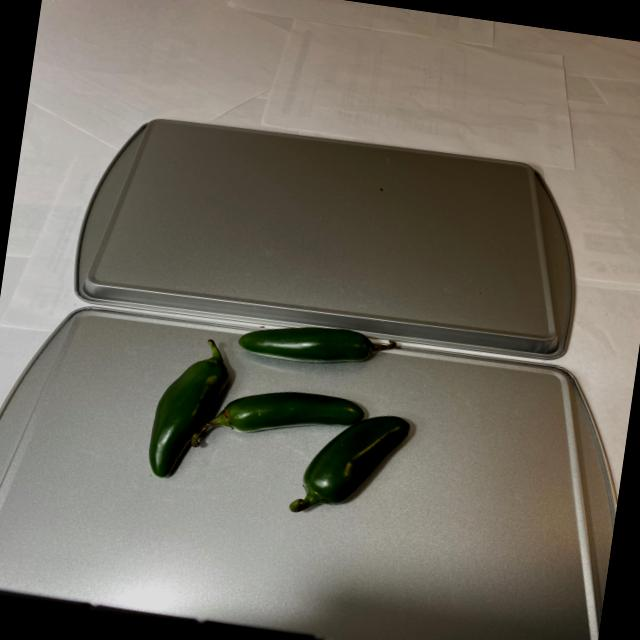chilli: (142, 300, 424, 526)
